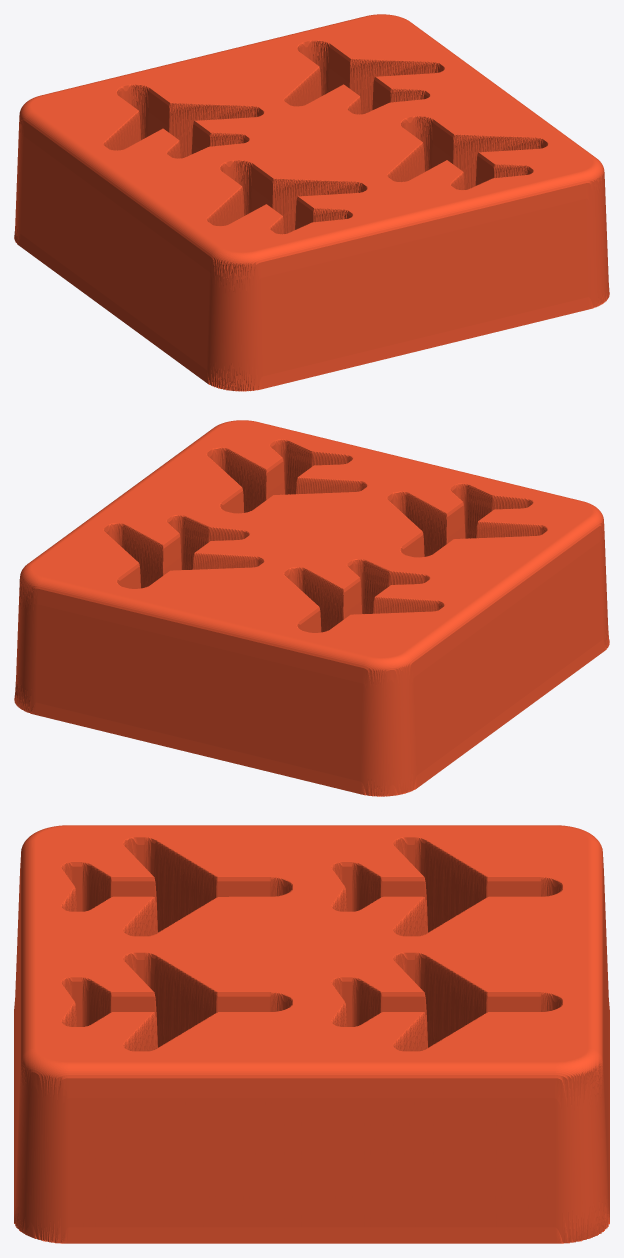
The model's file is mold.glb.
3 renders of one model, top to bottom at view 1: azimuth 30°, elevation 25°; view 2: azimuth 150°, elevation 25°; view 3: azimuth 270°, elevation 25°, orthographic. The views are drawn at different scales.
Parts seen in each view (by area): view 1: geometry_0; view 2: geometry_0; view 3: geometry_0.
Part boxes in pixels (x1,y1,x2,y2): geometry_0: (14,14,609,391); geometry_0: (14,420,609,796); geometry_0: (14,825,609,1243).
Size of the model in its own units: 0.0992 by 0.0314 by 0.0984.
